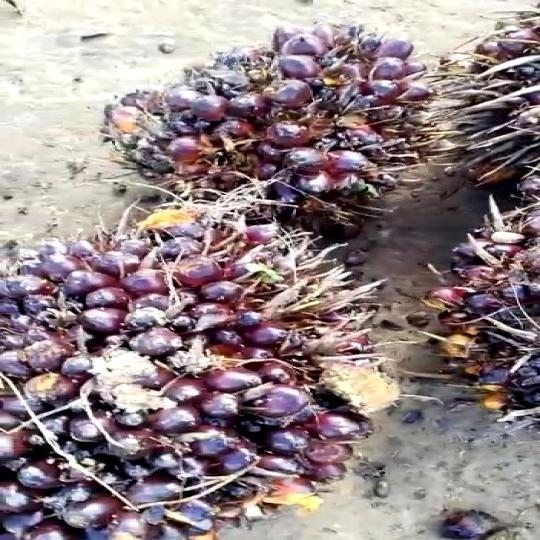masak: (0, 208, 423, 540), (81, 12, 472, 242)
